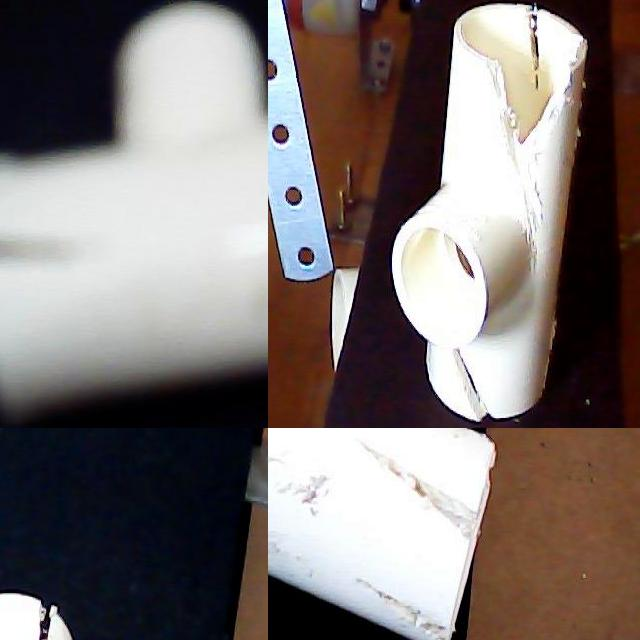Defective: (319, 428, 478, 542), (468, 36, 568, 180), (305, 548, 451, 640), (444, 316, 507, 424), (507, 176, 556, 272), (0, 222, 59, 294), (517, 0, 550, 103), (24, 594, 64, 640)
T Joint: (0, 1, 268, 427), (390, 4, 589, 424), (268, 428, 496, 640)
